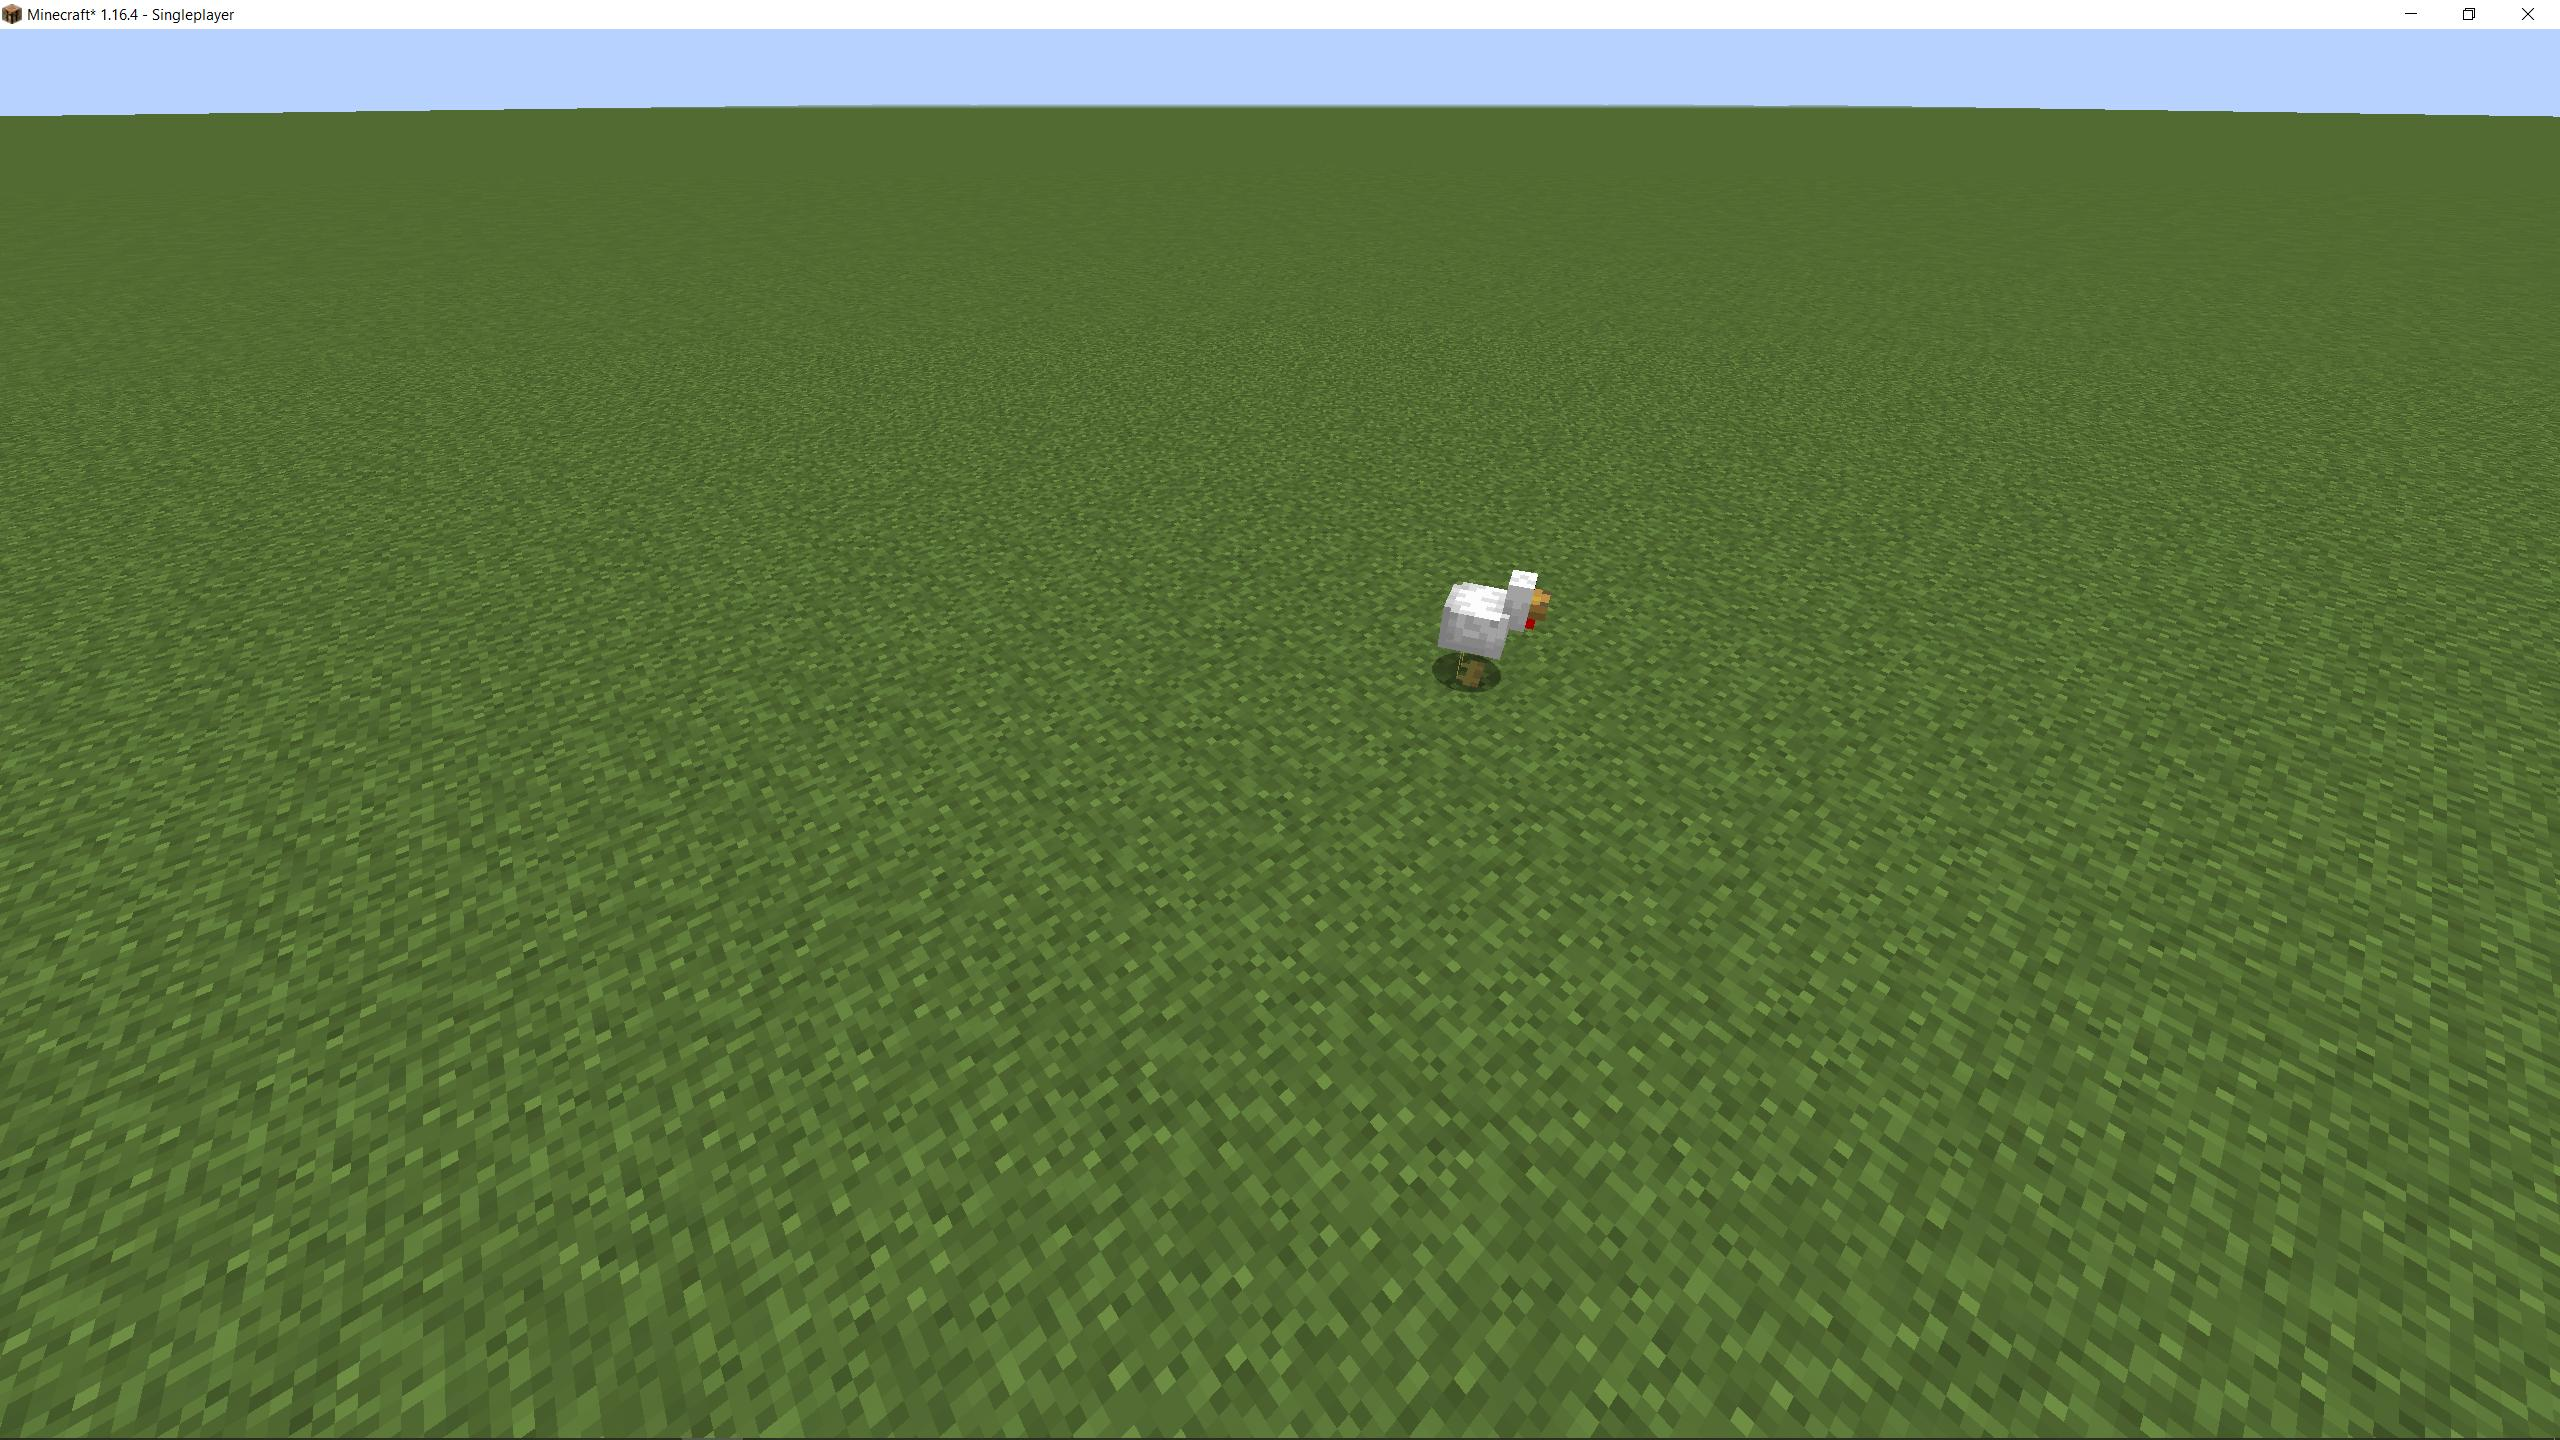chicken: (1438, 563, 1558, 695)
